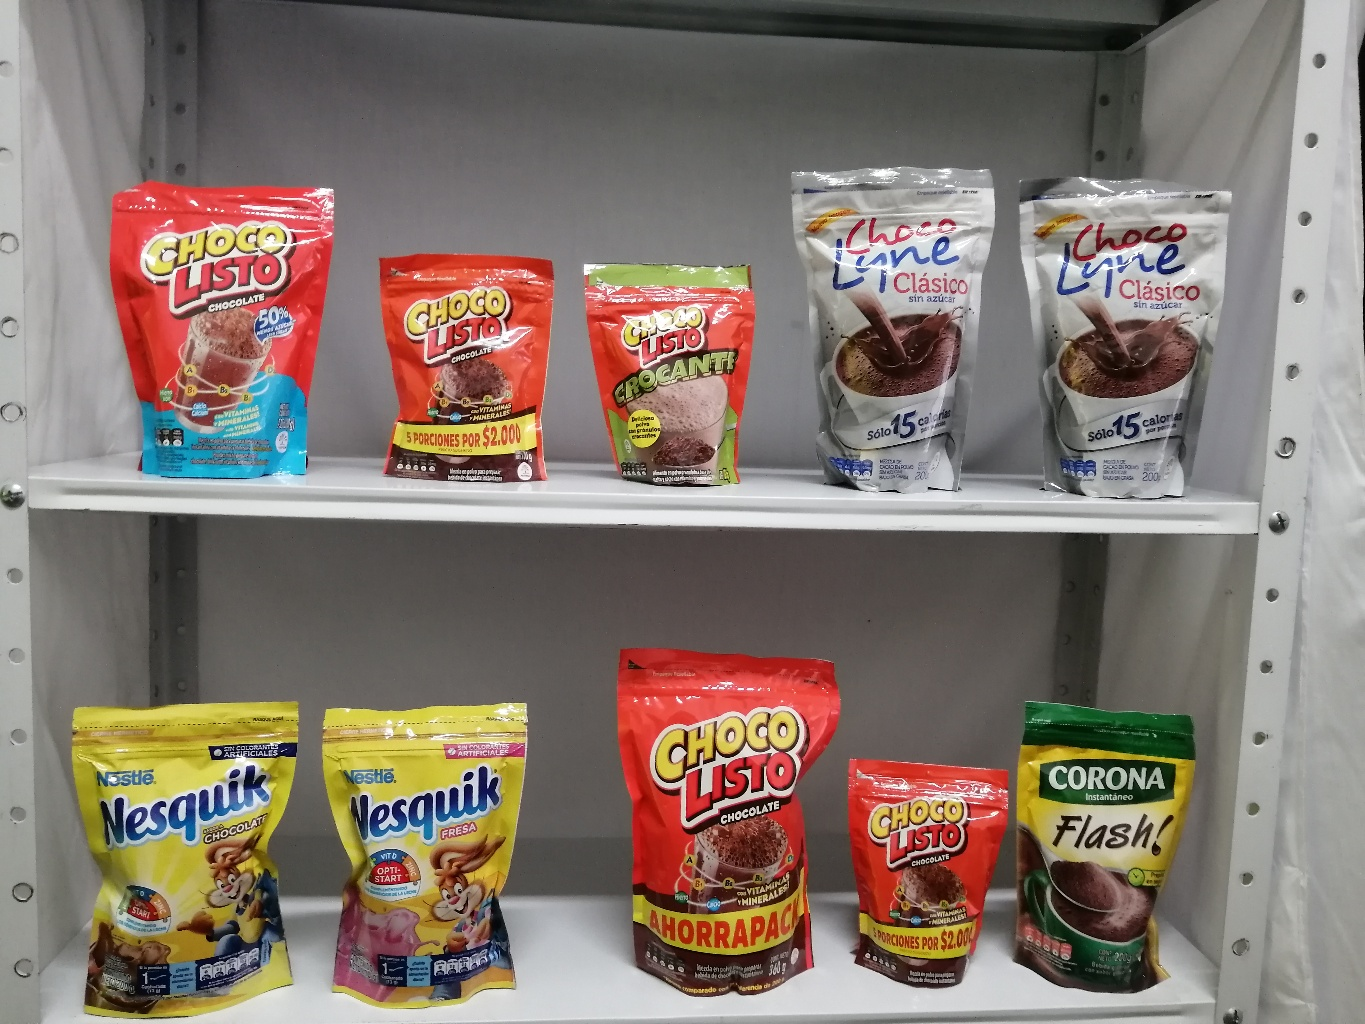COL0170102DYP10000: (572, 248, 769, 501)
COL0170103DYP36000: (608, 629, 844, 1021)
COL0170104DYP20000: (102, 172, 356, 481)
COL0170303DYP20000: (58, 698, 312, 1018)
COL0170305DYP20000: (312, 698, 535, 1016)
